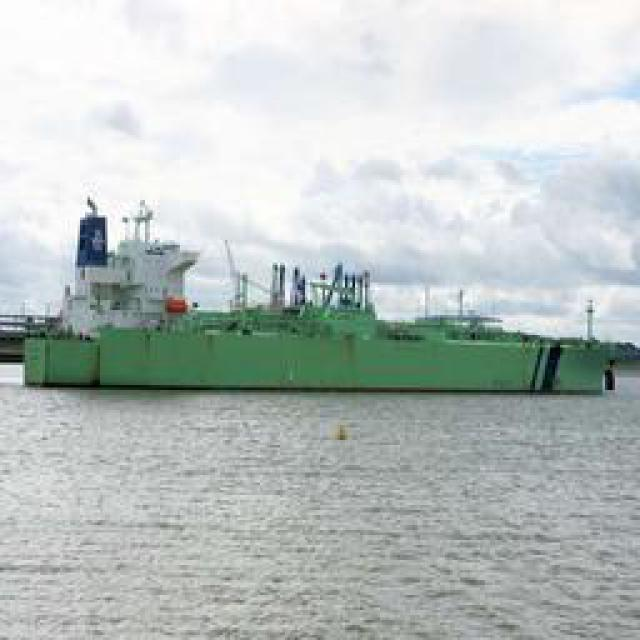Ship: (26, 322, 629, 395)
